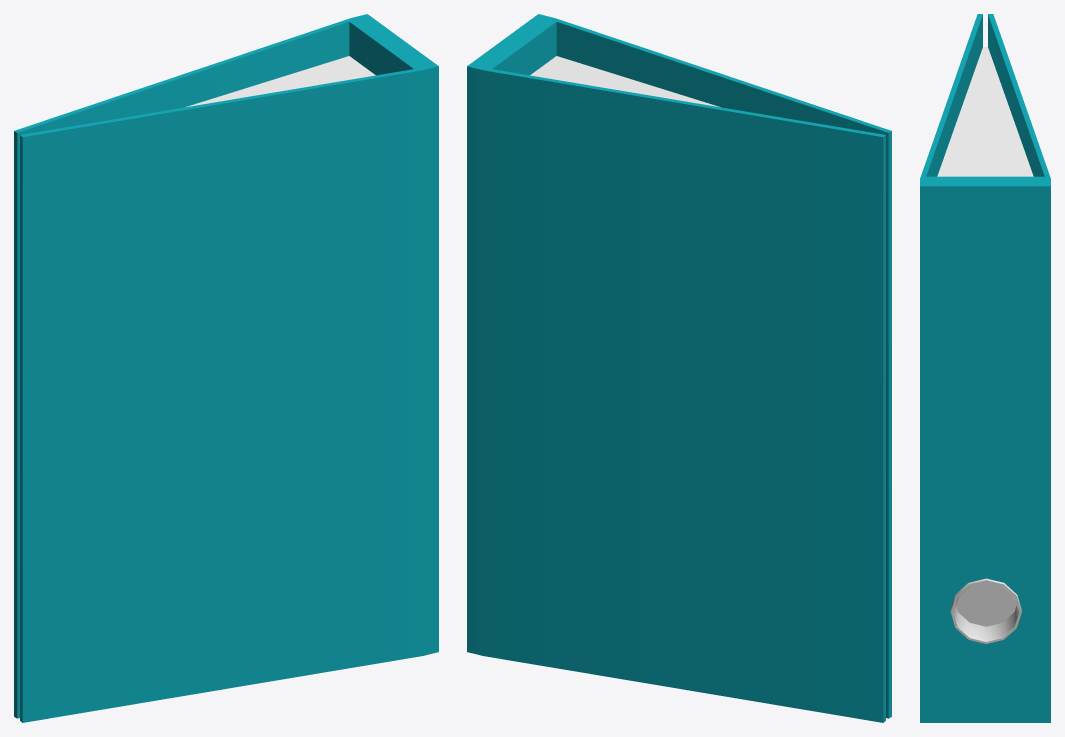
File: Carpeta08.fbx
The picture shows the model from 3 angles, left to right: view 1: azimuth 30°, elevation 25°; view 2: azimuth 150°, elevation 25°; view 3: azimuth 270°, elevation 25°; orthographic projection. The views are drawn at different scales.
Visible parts, largest first — view 1: Carpeta08; view 2: Carpeta08; view 3: Carpeta08.
Part boxes in pixels (x1,y1,x2,y2): Carpeta08: (14, 14, 438, 722); Carpeta08: (467, 14, 891, 722); Carpeta08: (920, 14, 1050, 722).
Size of the model in its own units: 34.66 by 50.08 by 11.07.
